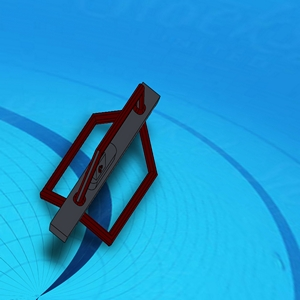submarine: (38, 85, 167, 252)
